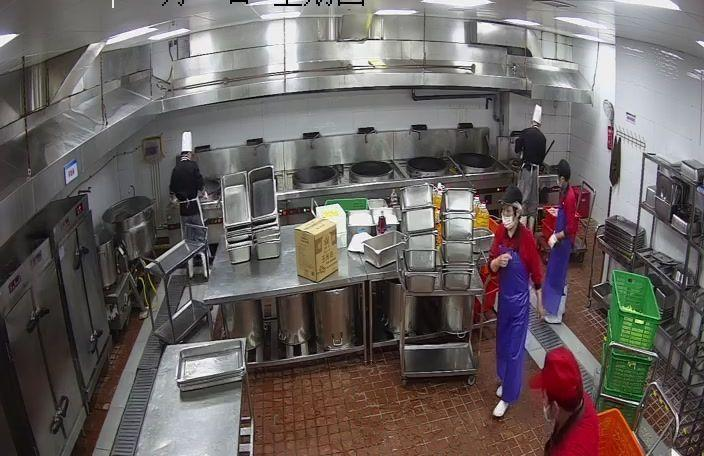mask: (500, 212, 516, 224)
